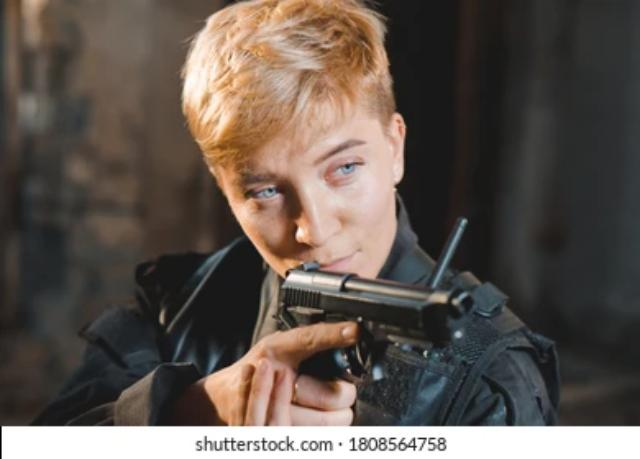other: (67, 0, 529, 427)
